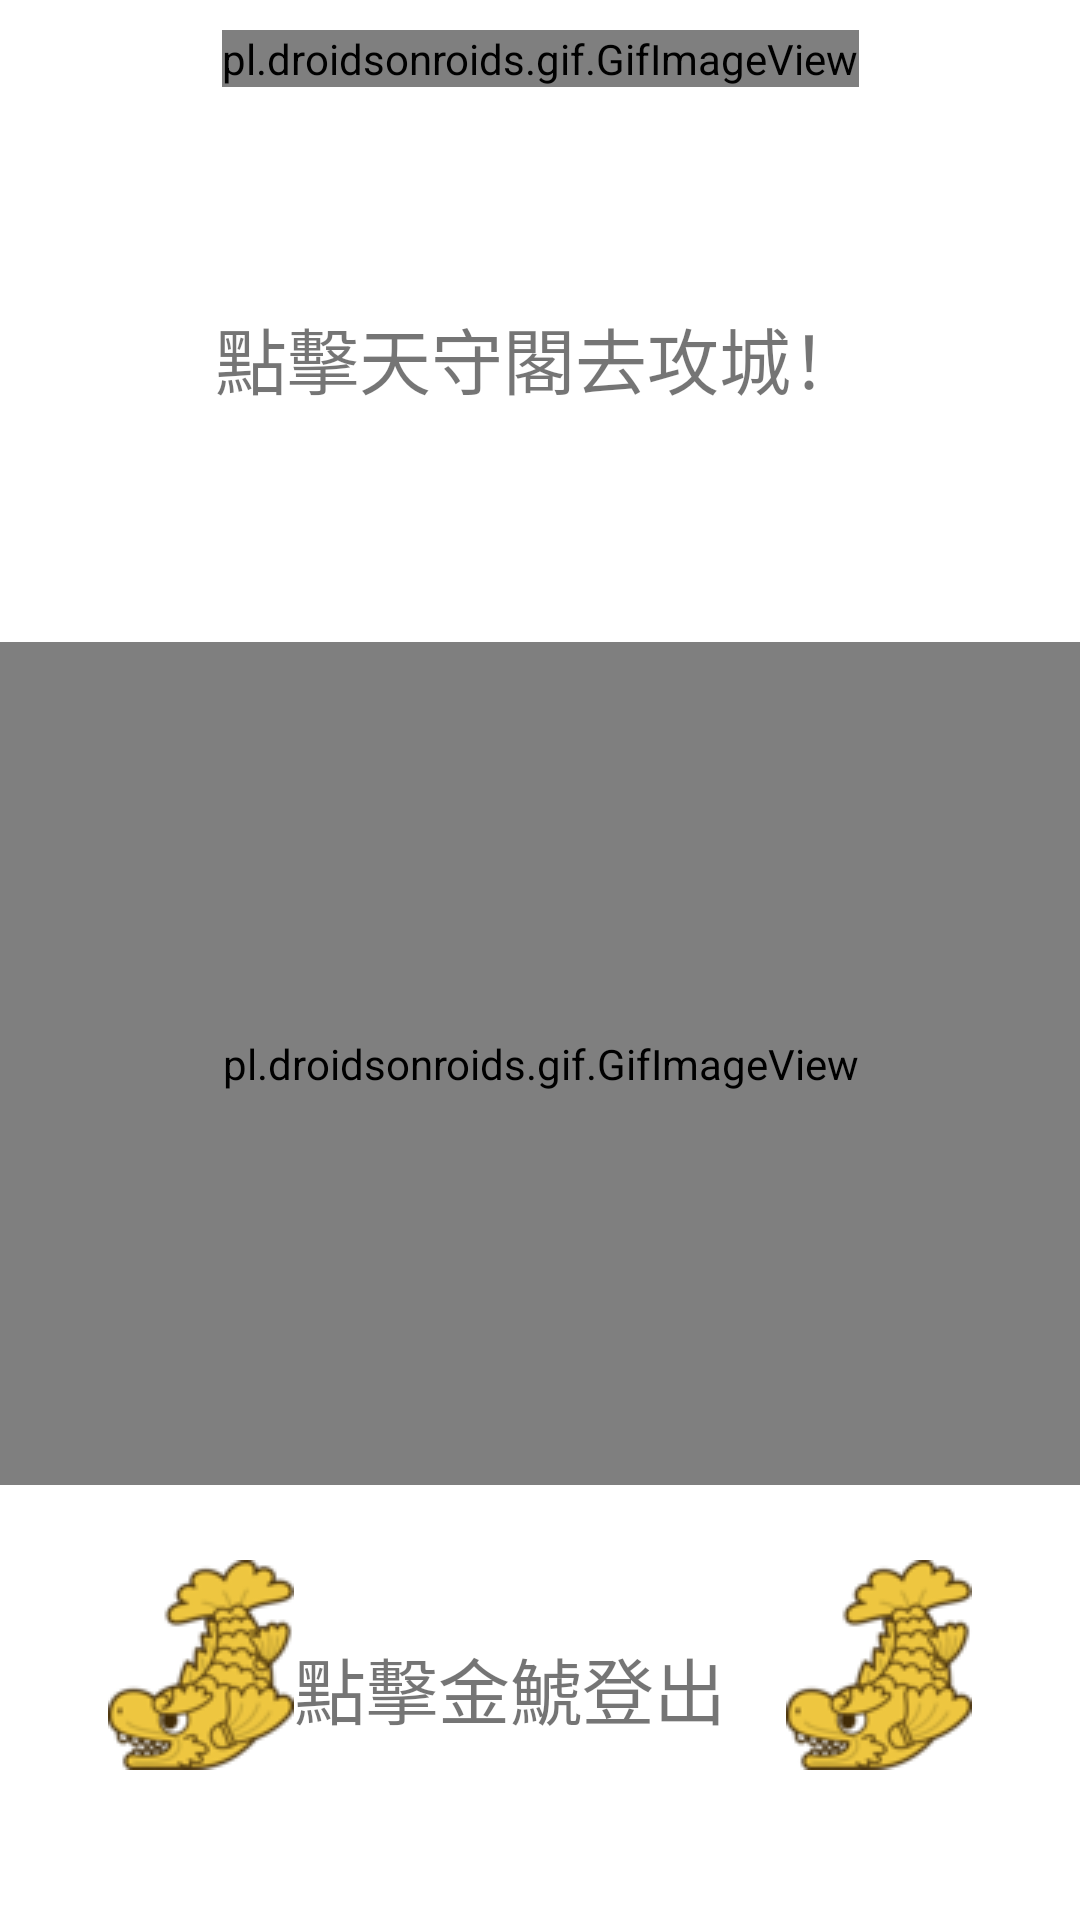

Icons on this 1080*1920 Android screen, each with the point to tap as [x,y]:
kinshachi: [201,1665], [879,1665]
